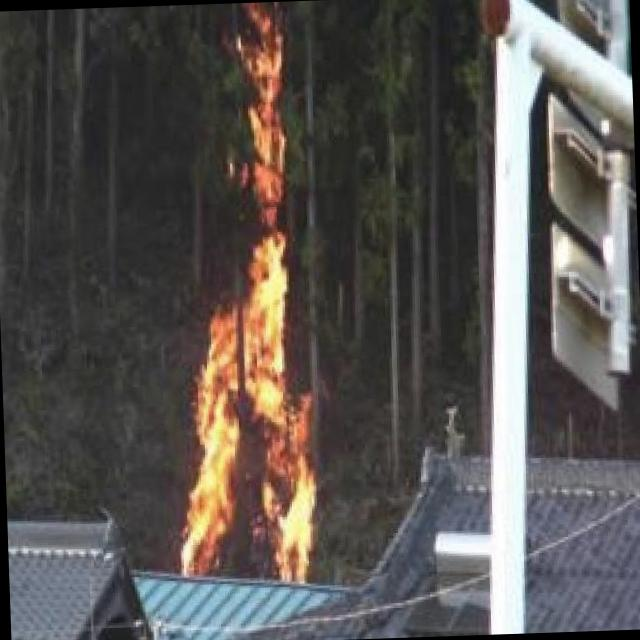fire: (157, 18, 324, 584)
